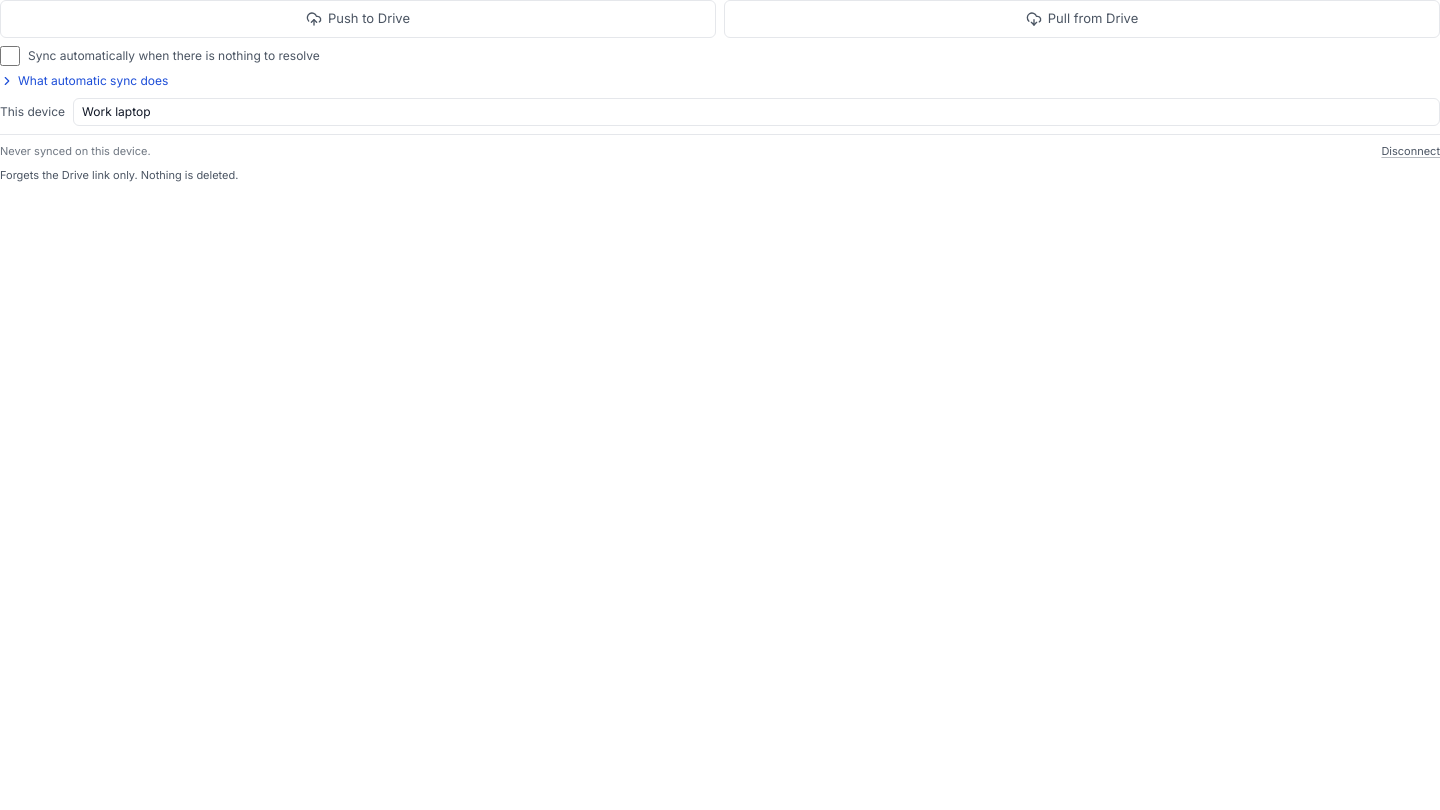
Test: DriveSyncControls › cancels the push when the user backs out
The image size is (1440, 810).
Click the button "Push to Drive" at (358, 19), box [0,0,716,38]
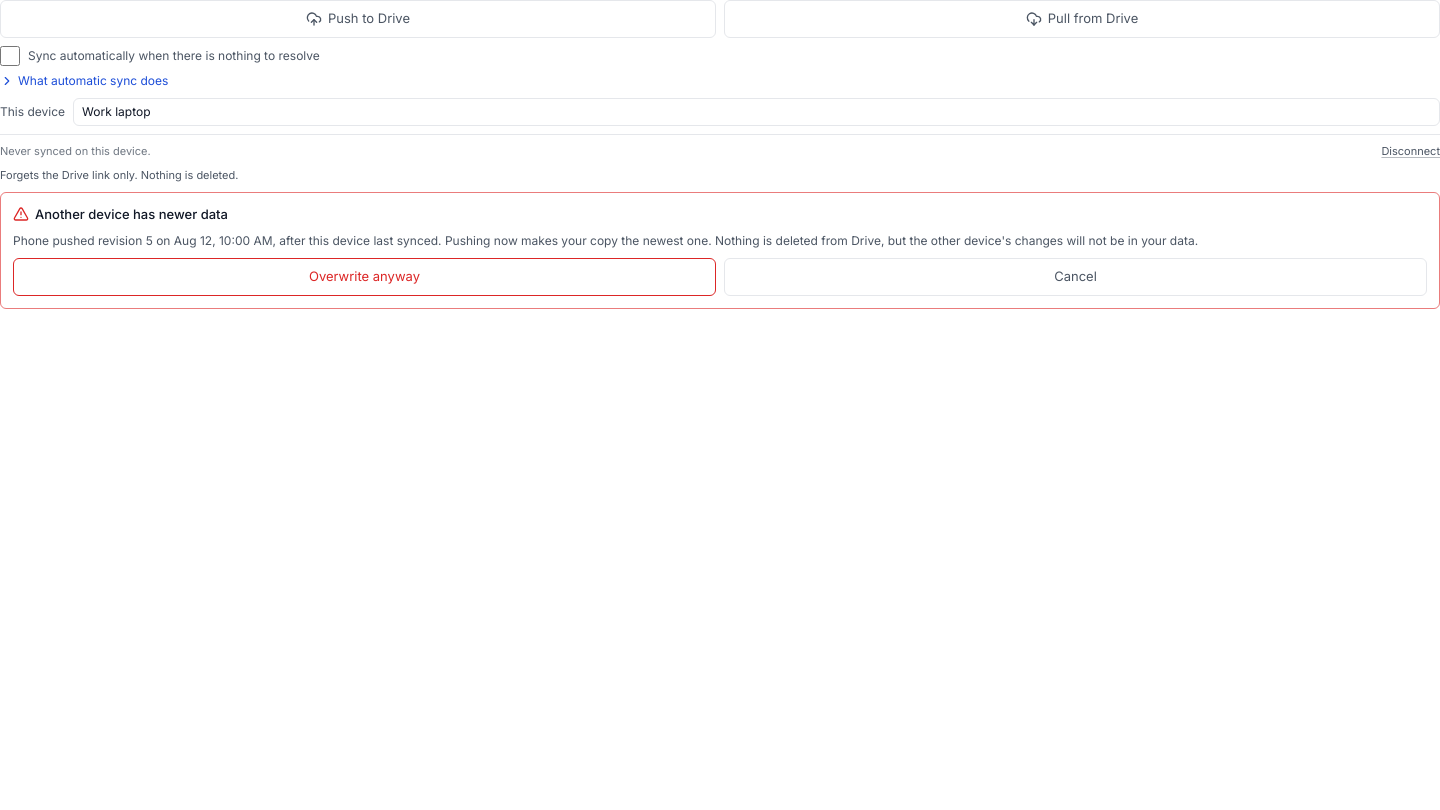
Now the dialog is shown, box [0,192,1439,308]
Click the button "Cancel" at (1076, 277), box [724,258,1427,296]
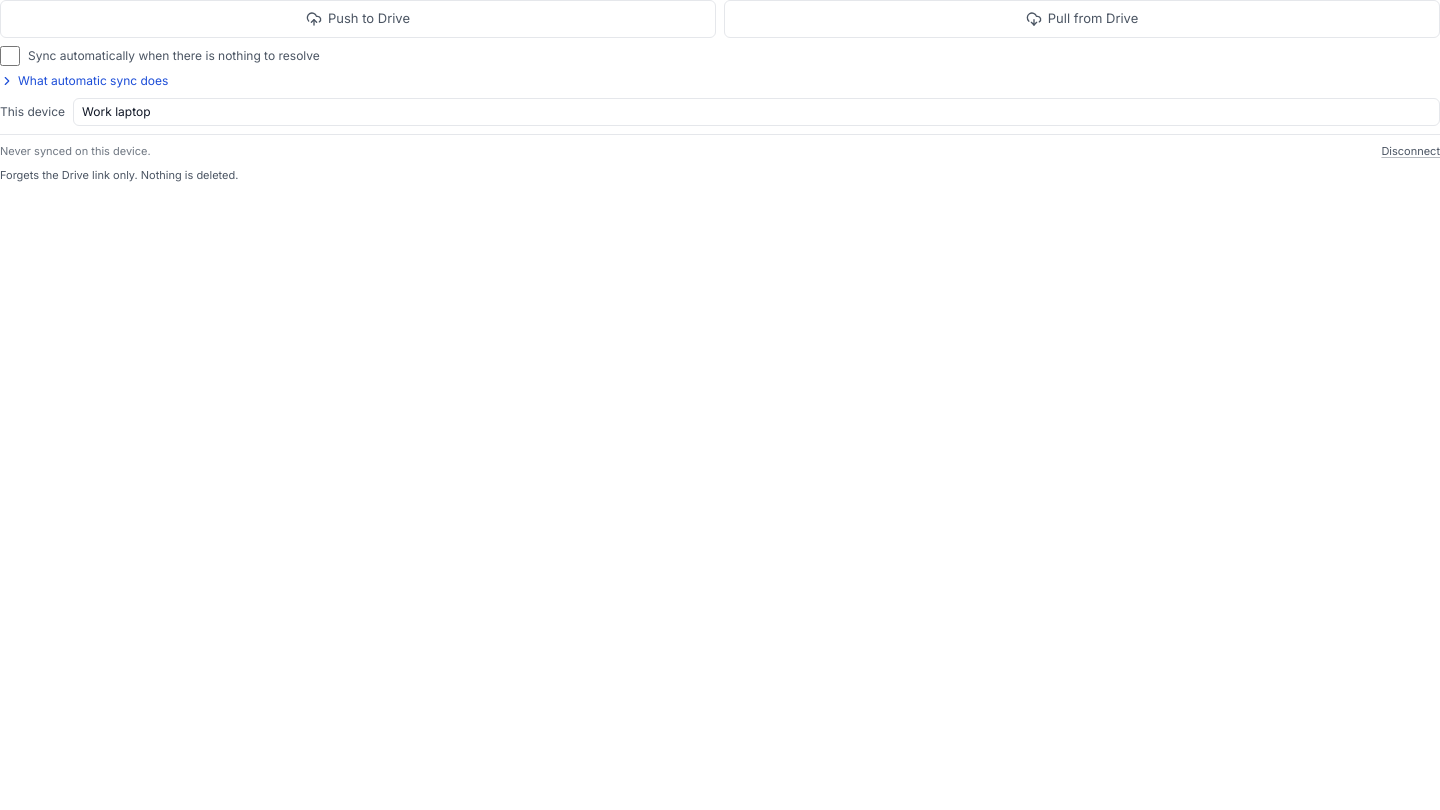
Now the dialog is gone
